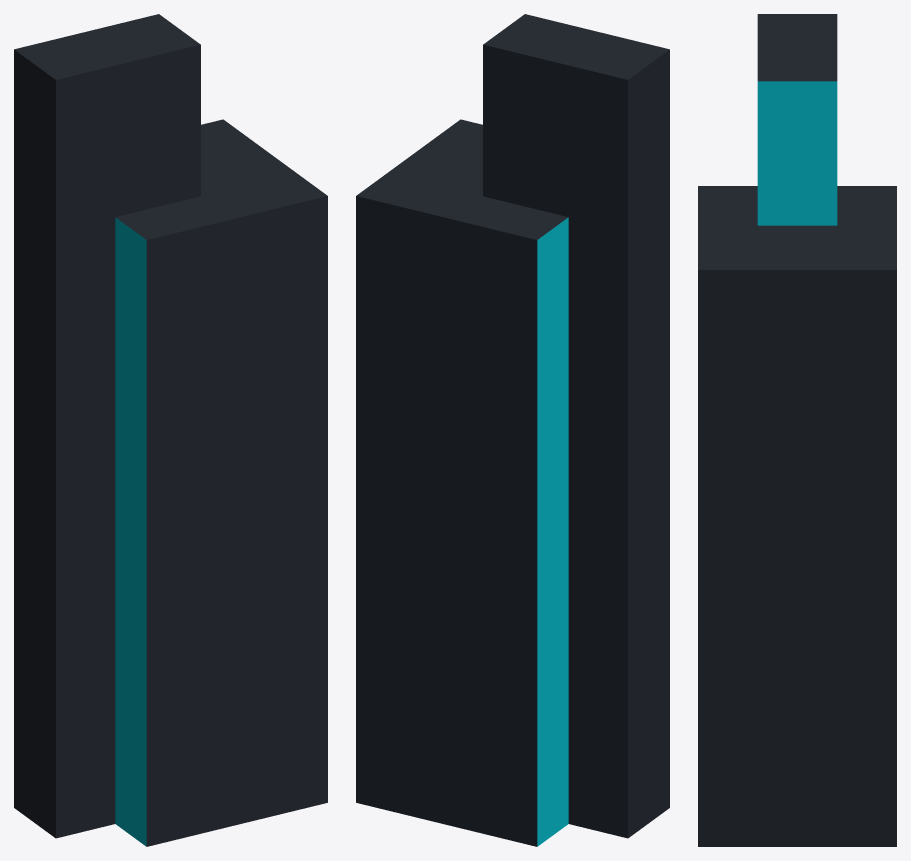
File: Building04.fbx
3 views of the same model, side by side, from view 1: azimuth 30°, elevation 25°; view 2: azimuth 150°, elevation 25°; view 3: azimuth 270°, elevation 25° (orthographic). The views are drawn at different scales.
Visible parts, largest first — view 1: Box058; view 2: Box058; view 3: Box058.
Part boxes in pixels (x1,y1,x2,y2): Box058: [14, 14, 327, 846]; Box058: [356, 14, 669, 846]; Box058: [698, 14, 896, 846].
Bounding box in the file's own units: 84.34 × 254 × 63.5.
